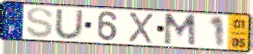1: (207, 15, 226, 49)
6: (96, 10, 119, 42)
M: (163, 13, 198, 49)
S: (25, 7, 55, 39)
U: (54, 8, 85, 41)
X: (127, 11, 154, 45)
